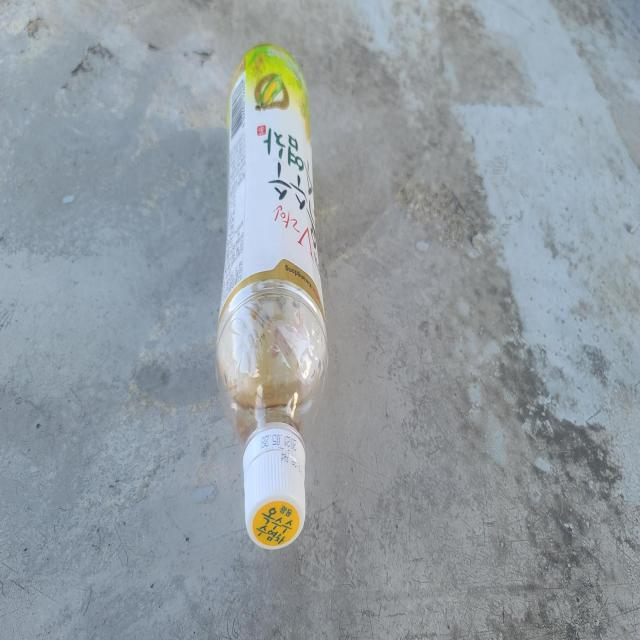plastic: (216, 43, 328, 550)
